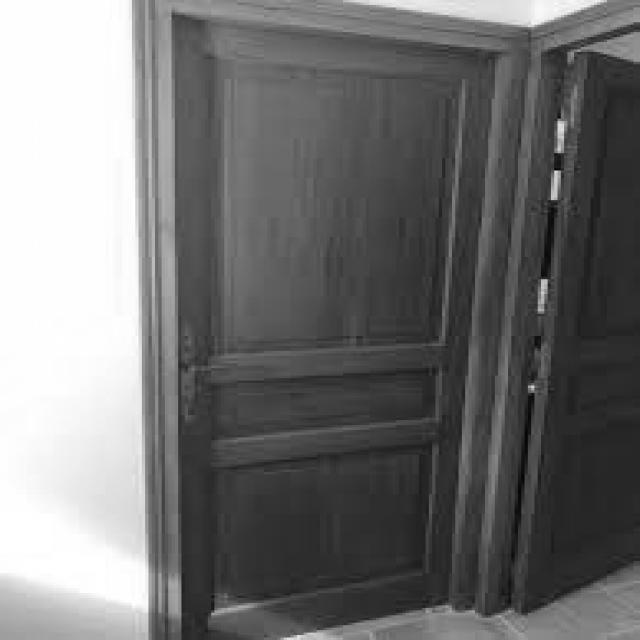Door: (170, 13, 495, 637)
